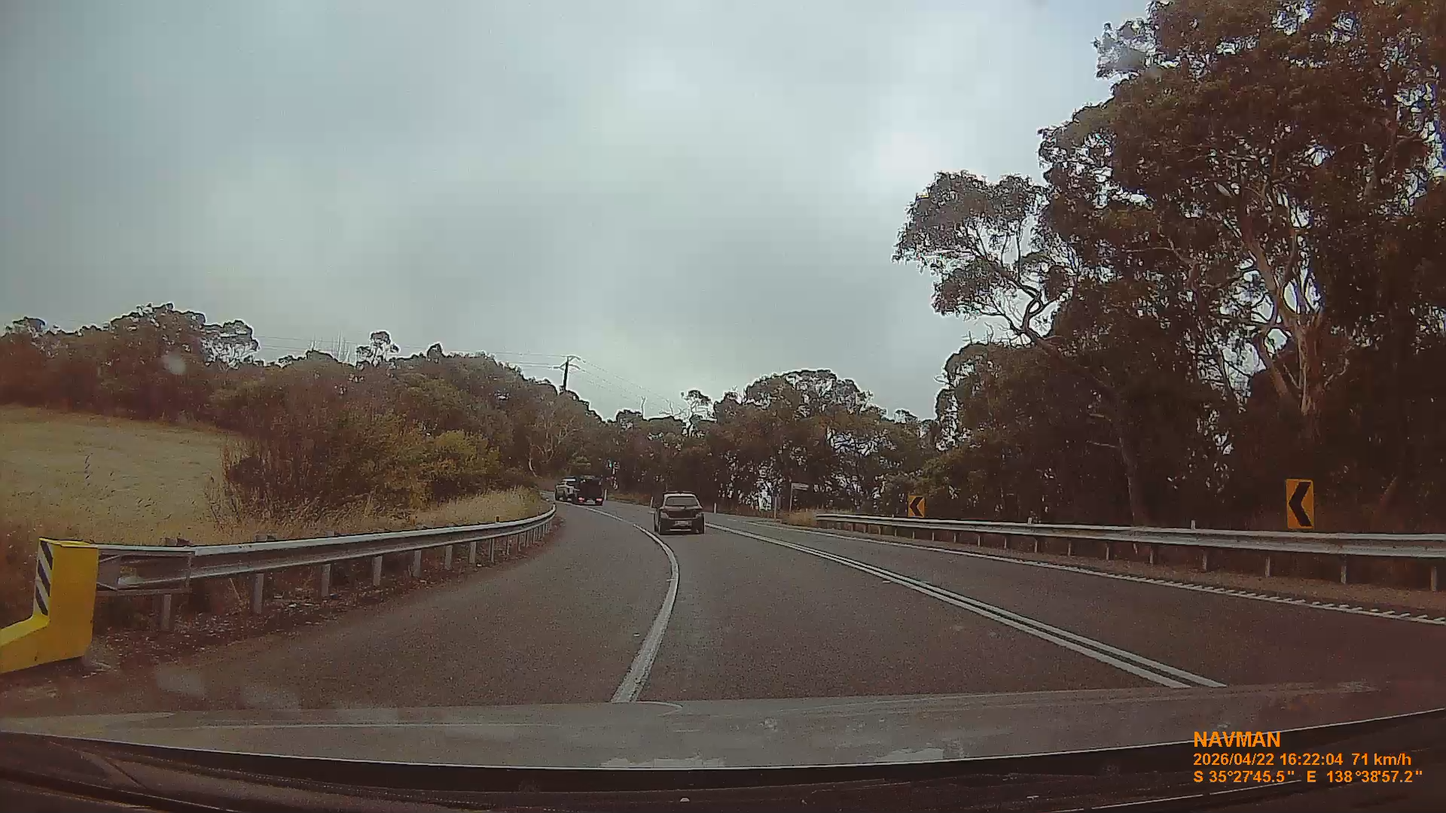road barriers: (0, 507, 557, 674), (816, 513, 1445, 590)
